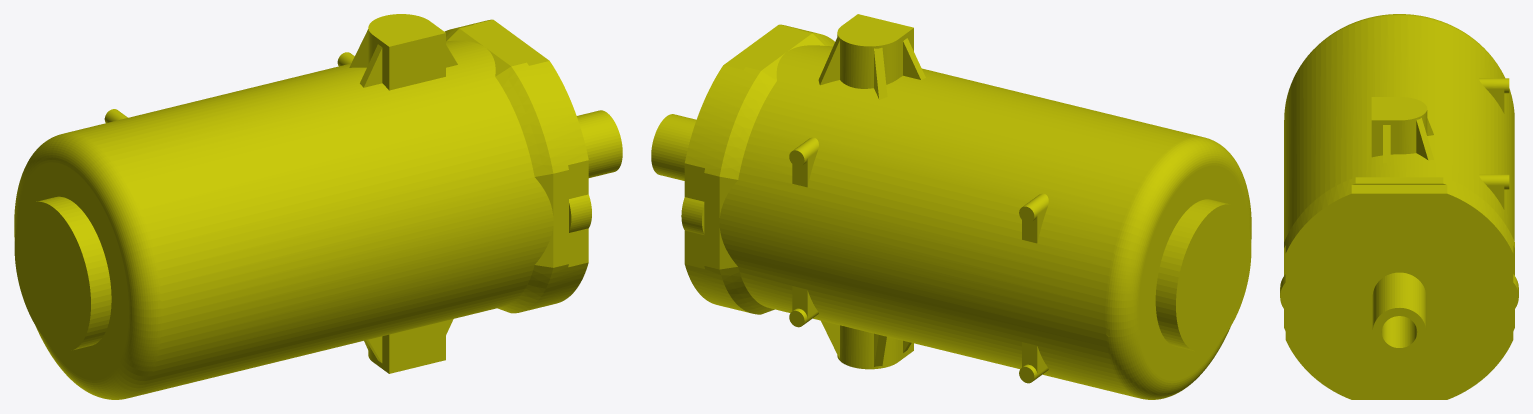
3 renders of one model, left to right at view 1: azimuth 30°, elevation 25°; view 2: azimuth 150°, elevation 25°; view 3: azimuth 270°, elevation 25°, orthographic. The views are drawn at different scales.
Parts seen in each view (by area): view 1: node; view 2: node; view 3: node.
Part boxes in pixels (box(x1,y1,x2,y2)): node: box(14, 14, 622, 399); node: box(651, 14, 1251, 399); node: box(1280, 14, 1518, 399).
Size of the model in its own units: 1071 by 604 by 472.
